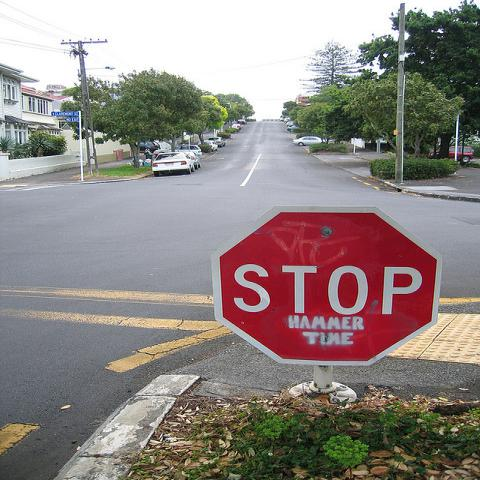car: (151, 152, 196, 177), (428, 146, 475, 162), (180, 151, 202, 169), (174, 143, 202, 156), (292, 136, 322, 146), (197, 139, 219, 152), (208, 138, 226, 148), (153, 146, 171, 154), (286, 125, 300, 131), (237, 119, 248, 125), (286, 121, 294, 127), (232, 126, 239, 130), (284, 118, 289, 122)
